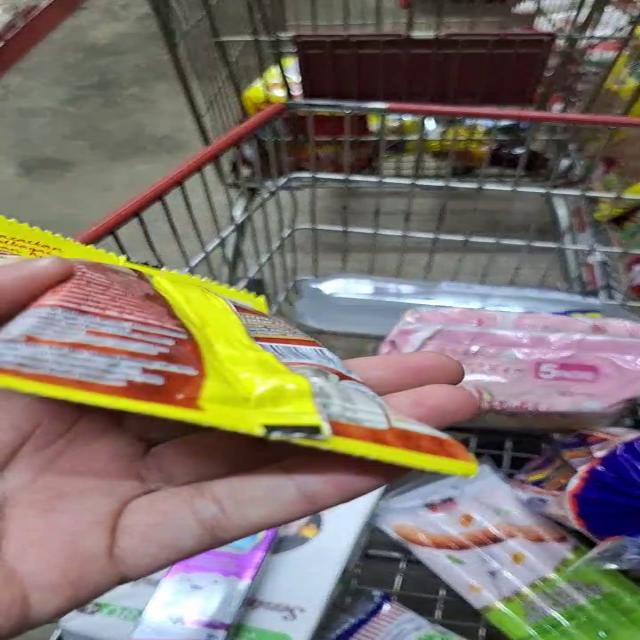Maggi Cukup Rasa: (0, 209, 468, 475)
Ubat Gigi: (156, 520, 283, 640)
